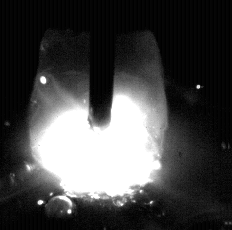arame: (89, 0, 113, 129)
poca: (29, 0, 164, 230)
